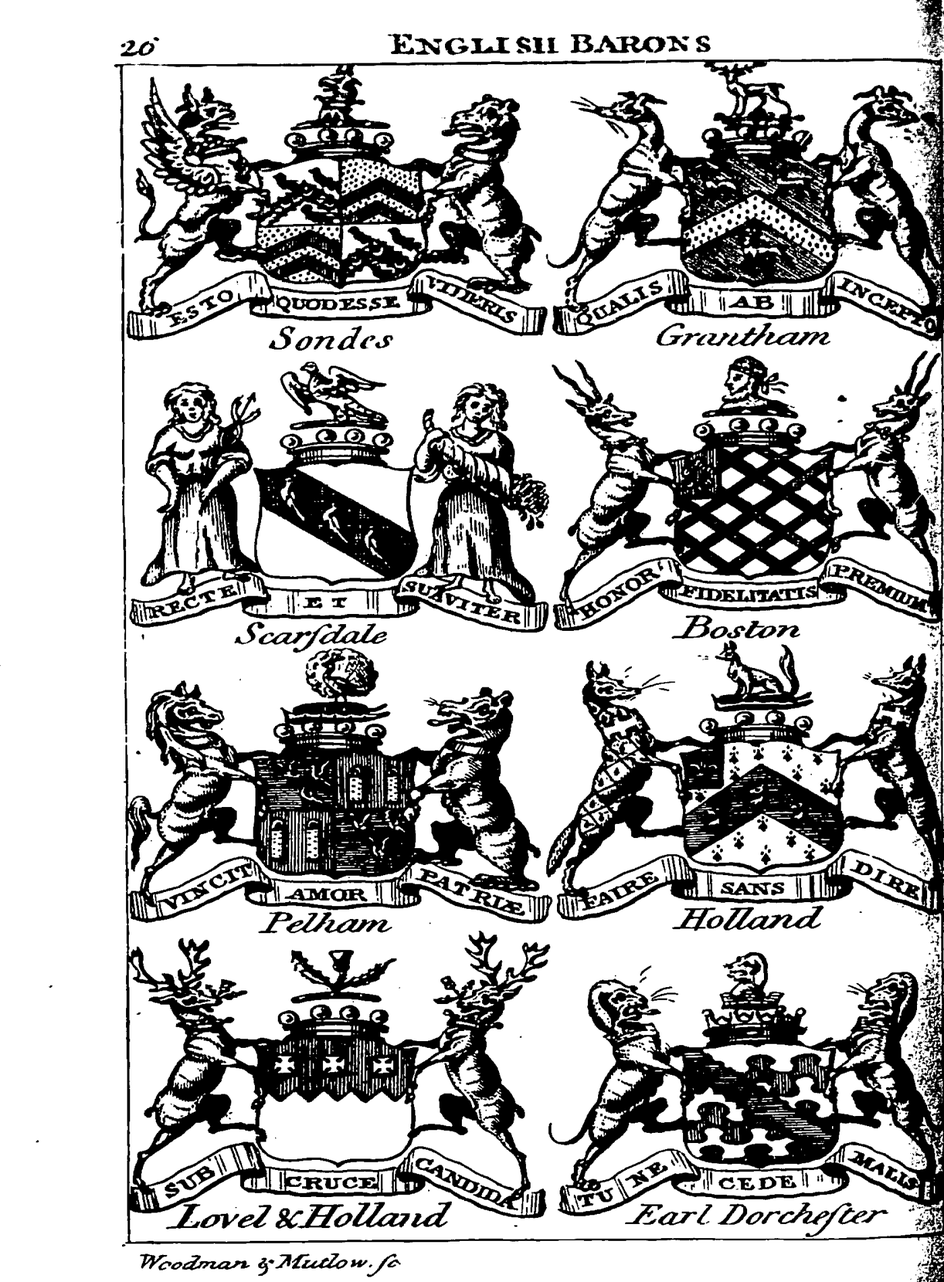coat_of_arms: (129, 936, 547, 1237), (131, 358, 557, 653), (121, 70, 550, 360), (128, 657, 552, 935), (558, 352, 944, 653), (539, 67, 936, 357), (550, 934, 935, 1231), (552, 654, 943, 935)
